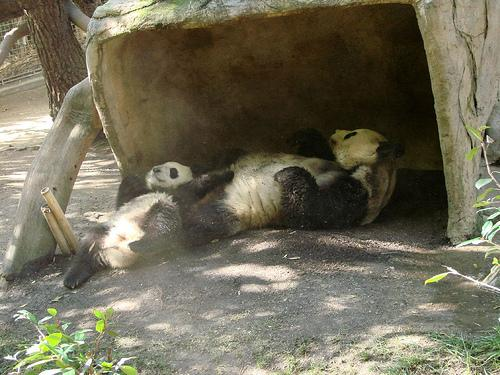panda: (64, 129, 402, 287)
